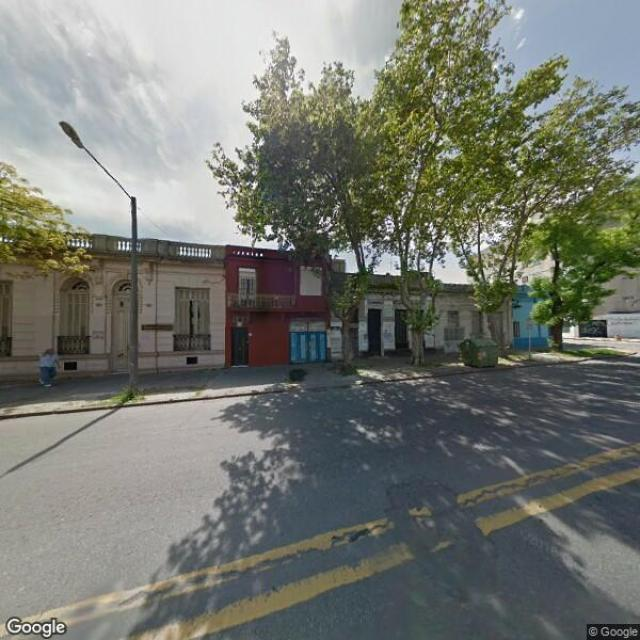garbage container: (454, 332, 504, 376)
